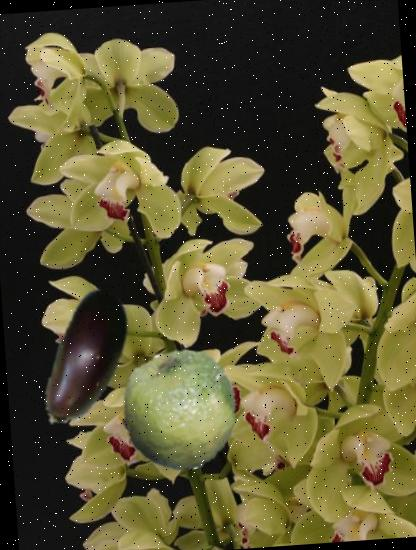Eggplant: (9, 280, 166, 436)
Limes: (116, 346, 244, 476)
